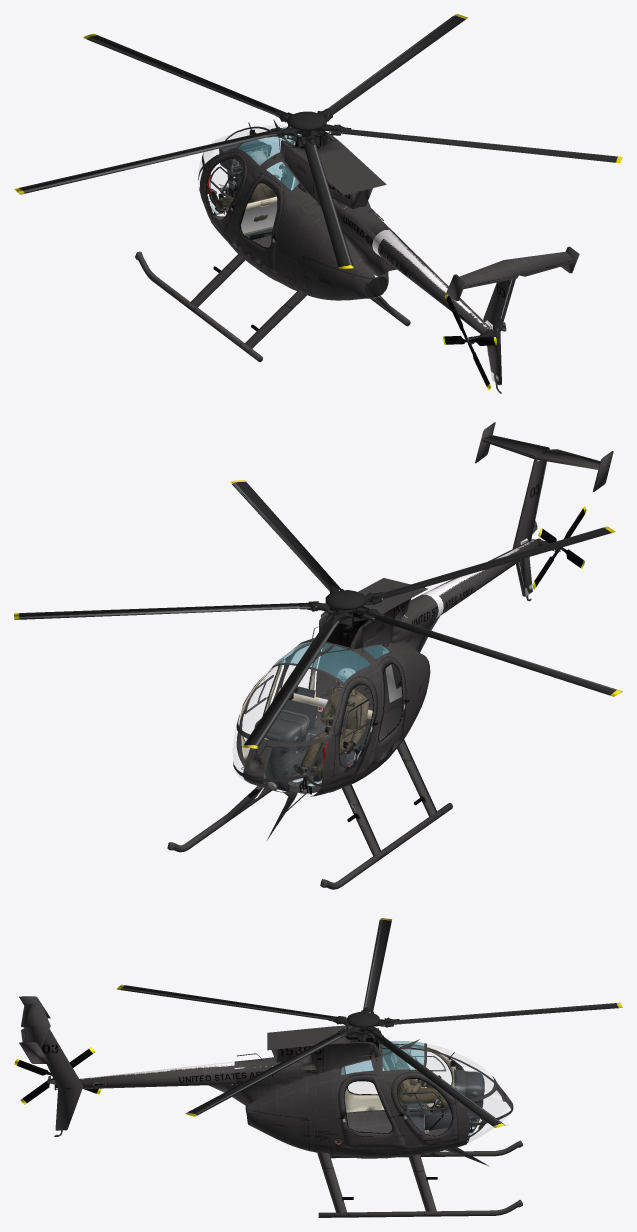
The picture shows the model from 3 angles, top to bottom: view 1: azimuth 30°, elevation 25°; view 2: azimuth 150°, elevation 25°; view 3: azimuth 270°, elevation 25°; orthographic projection. The views are drawn at different scales.
Visible parts, largest first — view 1: ext_fuse1, rotor_main, ext_fuse1_doors, ext_skids, glasss_grn, int_seats2, int_pilotR, int_console, rotor_tail; view 2: ext_fuse1, rotor_main, ext_fuse1_doors, ext_fuse1.001, ext_skids, int_pilotR, int_console, glasss_grn, int_seats2, glass, rotor_tail; view 3: ext_fuse1, rotor_main, ext_fuse1_doors, ext_skids, glass, int_console, ext_fuse1.001, glasss_grn, int_pilotR, rotor_tail, int_seats2.
Part boxes in pixels (left/top/right/bottom): ext_fuse1: left=198, top=119, right=579, bottom=393; rotor_main: left=14, top=14, right=622, bottom=269; ext_fuse1_doors: left=204, top=152, right=299, bottom=273; ext_skids: left=135, top=251, right=410, bottom=362; glasss_grn: left=238, top=128, right=301, bottom=190; int_seats2: left=233, top=195, right=277, bottom=239; int_pilotR: left=209, top=150, right=277, bottom=221; int_console: left=206, top=139, right=271, bottom=194; rotor_tail: left=443, top=294, right=497, bottom=390; ext_fuse1: left=233, top=422, right=613, bottom=840; rotor_main: left=14, top=480, right=622, bottom=748; ext_fuse1_doors: left=239, top=642, right=409, bottom=783; ext_fuse1.001: left=236, top=642, right=402, bottom=793; ext_skids: left=167, top=739, right=452, bottom=889; int_pilotR: left=293, top=668, right=369, bottom=781; int_console: left=254, top=709, right=326, bottom=791; glasss_grn: left=274, top=638, right=389, bottom=682; int_seats2: left=278, top=686, right=372, bottom=767; glass: left=233, top=665, right=310, bottom=781; rotor_tail: left=532, top=506, right=586, bottom=589; ext_fuse1: left=19, top=996, right=513, bottom=1166; rotor_main: left=117, top=918, right=622, bottom=1127; ext_fuse1_doors: left=338, top=1043, right=458, bottom=1149; ext_skids: left=317, top=1140, right=522, bottom=1217; glass: left=348, top=1044, right=509, bottom=1143; int_console: left=424, top=1069, right=484, bottom=1132; ext_fuse1.001: left=346, top=1044, right=463, bottom=1135; glasss_grn: left=341, top=1041, right=424, bottom=1074; int_pilotR: left=394, top=1043, right=449, bottom=1108; rotor_tail: left=14, top=1047, right=101, bottom=1104; int_seats2: left=398, top=1098, right=431, bottom=1133.
Bounding box in the file's own units: 7.48 × 2.89 × 9.2.
10 materials, 10 textured.
